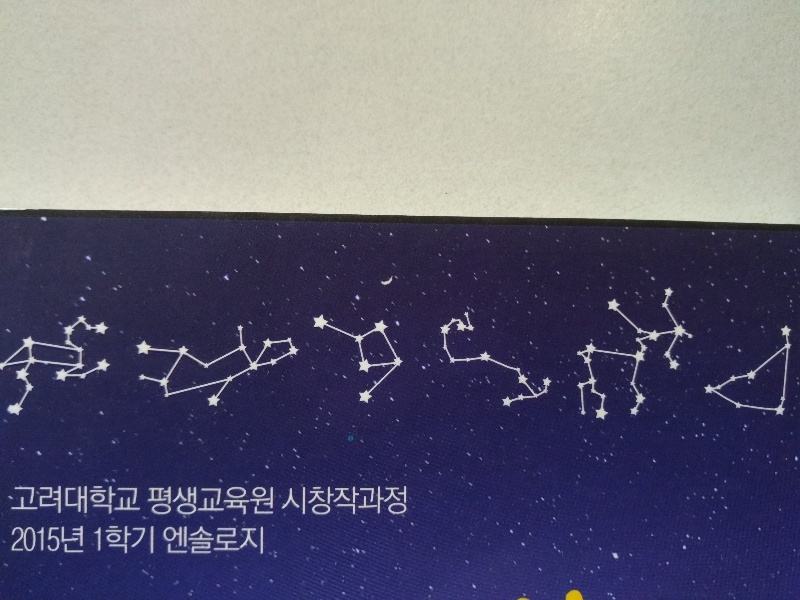text: (177, 525, 192, 559), (193, 525, 208, 559), (209, 525, 224, 559), (225, 525, 240, 559), (241, 525, 256, 559), (289, 485, 304, 519), (305, 485, 320, 519), (321, 485, 336, 519), (337, 485, 352, 519), (353, 485, 368, 519), (369, 485, 384, 519), (385, 485, 400, 519), (161, 486, 176, 519), (177, 486, 192, 519), (193, 486, 208, 519), (209, 486, 224, 519), (225, 486, 240, 519), (241, 486, 256, 519), (257, 486, 272, 519), (162, 525, 176, 559), (17, 526, 32, 557), (33, 526, 48, 557), (49, 526, 64, 557), (65, 526, 80, 557), (97, 526, 112, 557), (113, 526, 128, 557), (129, 526, 144, 557), (146, 486, 160, 519), (17, 486, 32, 515), (33, 486, 48, 515), (49, 486, 64, 515), (65, 486, 80, 515), (81, 486, 96, 515), (97, 486, 112, 515), (113, 486, 128, 515), (129, 486, 143, 515), (145, 526, 155, 557), (257, 525, 265, 559), (401, 485, 409, 519), (9, 526, 16, 557), (283, 485, 288, 519), (81, 526, 85, 557), (93, 526, 96, 557), (13, 486, 16, 515), (273, 486, 275, 519)
